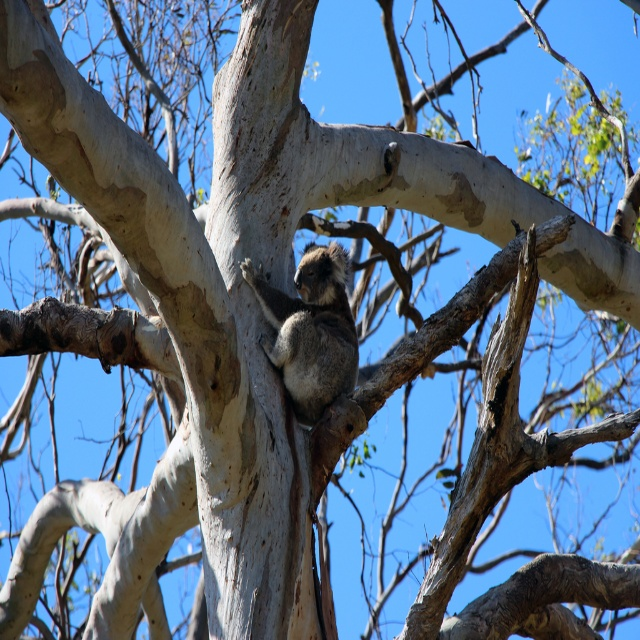Koala: (242, 241, 361, 414)
